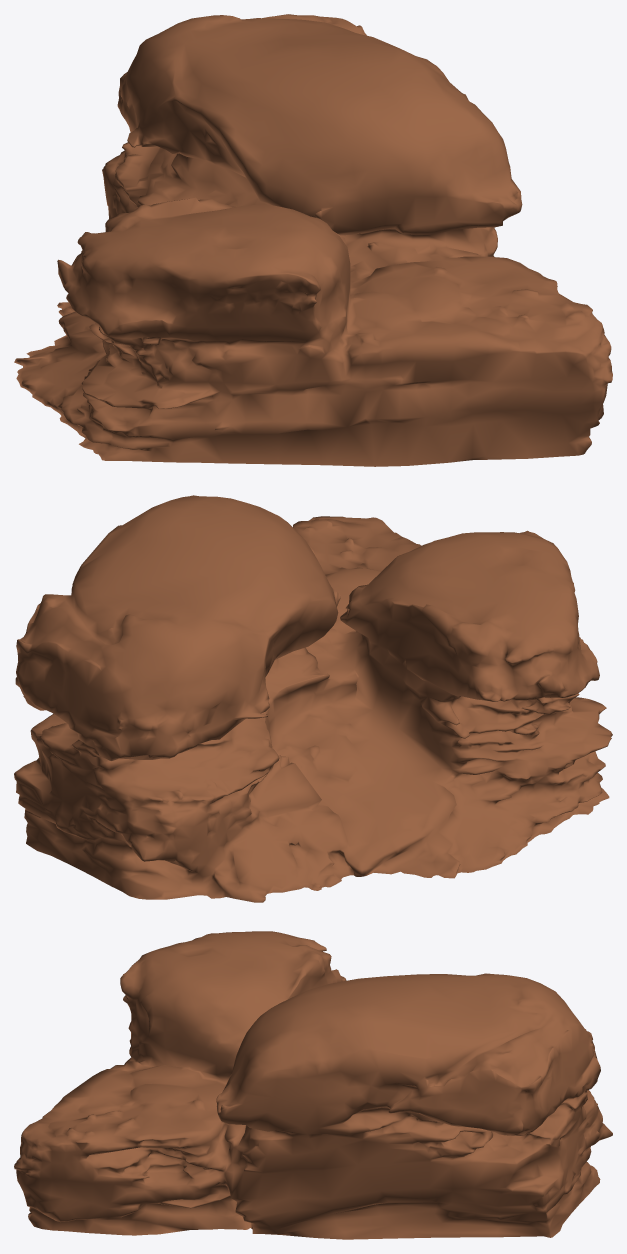
The model's file is Mesh_Obstacle_02_AB.FBX.
The picture shows the model from 3 angles, top to bottom: view 1: azimuth 30°, elevation 25°; view 2: azimuth 150°, elevation 25°; view 3: azimuth 270°, elevation 25°; orthographic projection. The views are drawn at different scales.
Parts seen in each view (by area): view 1: MESH_LOD0; view 2: MESH_LOD0; view 3: MESH_LOD0.
Part boxes in pixels (x1,y1,x2,y2): MESH_LOD0: (14,14,612,466); MESH_LOD0: (14,495,612,902); MESH_LOD0: (14,931,612,1239).
Size of what is drawn, in the model's own units: 85.24 by 48.51 by 122.
